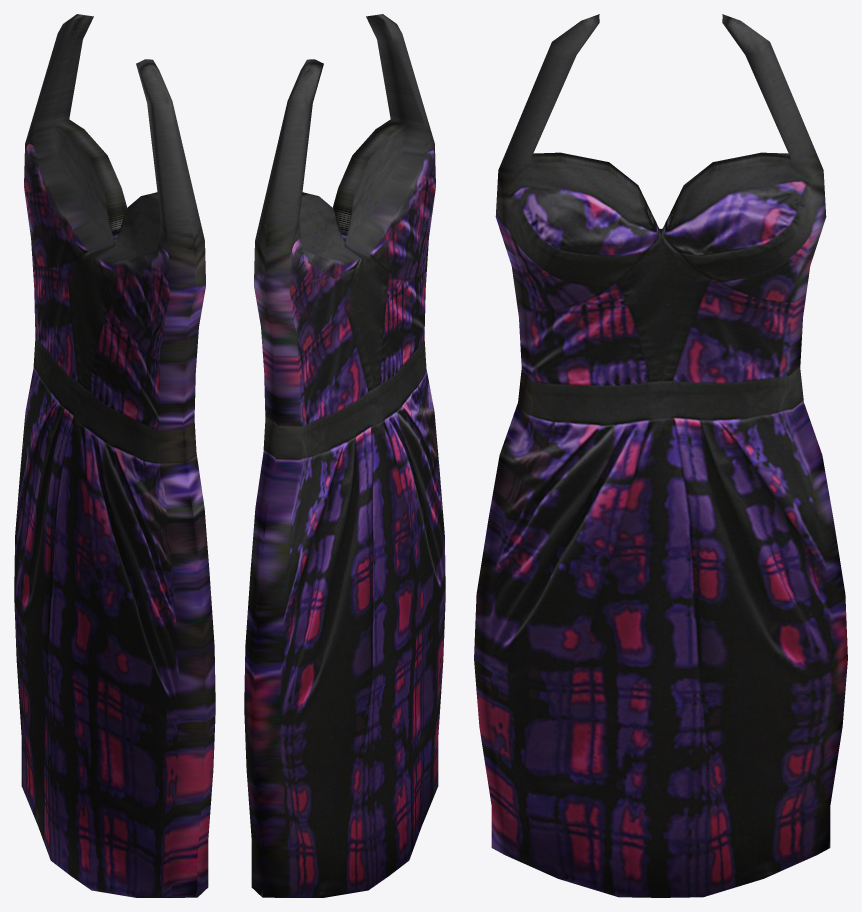
File: model_dress.obj
The picture shows the model from 3 angles, left to right: view 1: azimuth 30°, elevation 25°; view 2: azimuth 150°, elevation 25°; view 3: azimuth 270°, elevation 25°; orthographic projection. The views are drawn at different scales.
Parts seen in each view (by area): view 1: model_dress; view 2: model_dress; view 3: model_dress.
Boxes of the visible parts, <box> form: model_dress: <box>14,14,215,897</box>; model_dress: <box>244,14,445,897</box>; model_dress: <box>474,14,847,897</box>.
Bounding box in the file's own units: 3.34 × 29.07 × 11.43.
